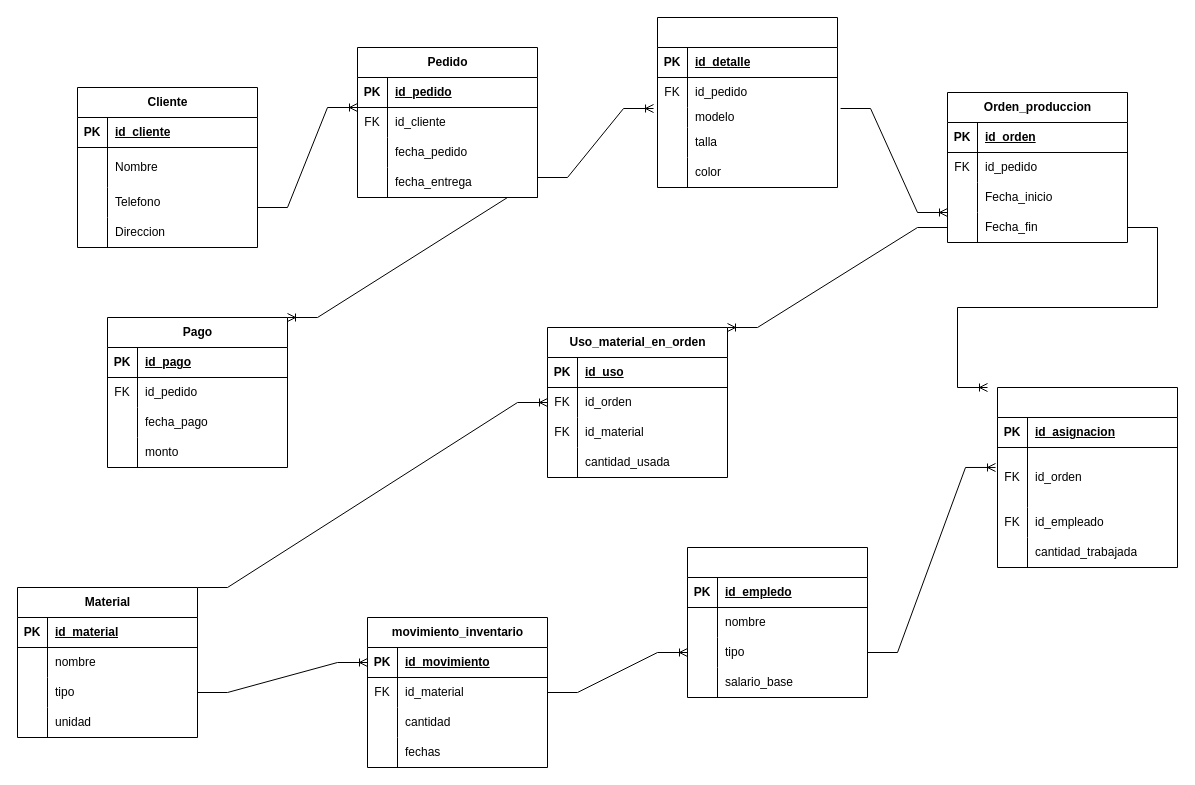
The diagram is 1195 pixels wide and 785 high, and some of its shapes have lost their labels. The box of each missing label's shape, as (x1, y1, x2, y2) in pixels:
Asignacion_Produccion: (996, 386, 1178, 568)
Detalle_pedido: (656, 16, 838, 188)
Empleado: (686, 546, 868, 698)
